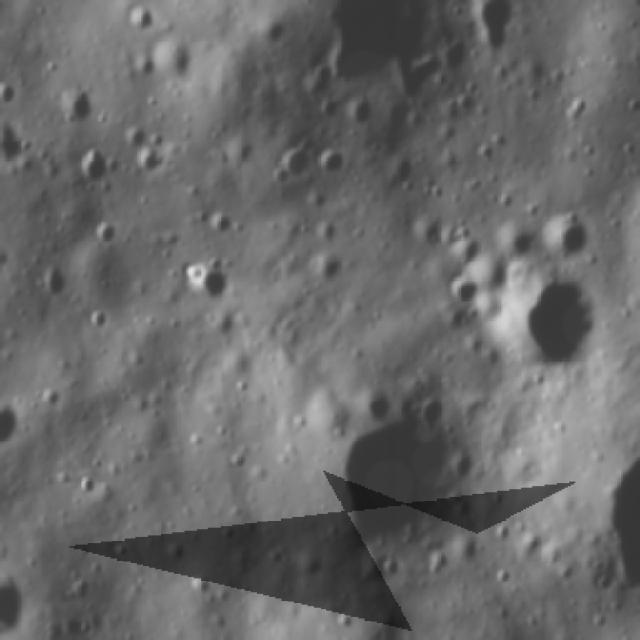crater: (314, 390, 480, 558), (496, 252, 602, 391), (316, 2, 442, 93), (540, 212, 597, 268), (490, 217, 544, 269), (145, 35, 197, 87), (271, 138, 317, 191), (191, 261, 243, 307), (440, 269, 488, 311), (0, 397, 32, 457), (443, 231, 488, 272), (56, 88, 99, 129), (75, 146, 113, 191), (0, 577, 28, 637), (133, 143, 176, 180), (0, 115, 29, 167), (316, 139, 349, 181), (182, 567, 218, 599), (87, 215, 119, 250), (38, 268, 72, 300), (348, 100, 378, 131), (88, 304, 115, 336), (122, 120, 146, 152), (0, 77, 22, 108), (161, 539, 185, 566), (314, 98, 338, 125)
